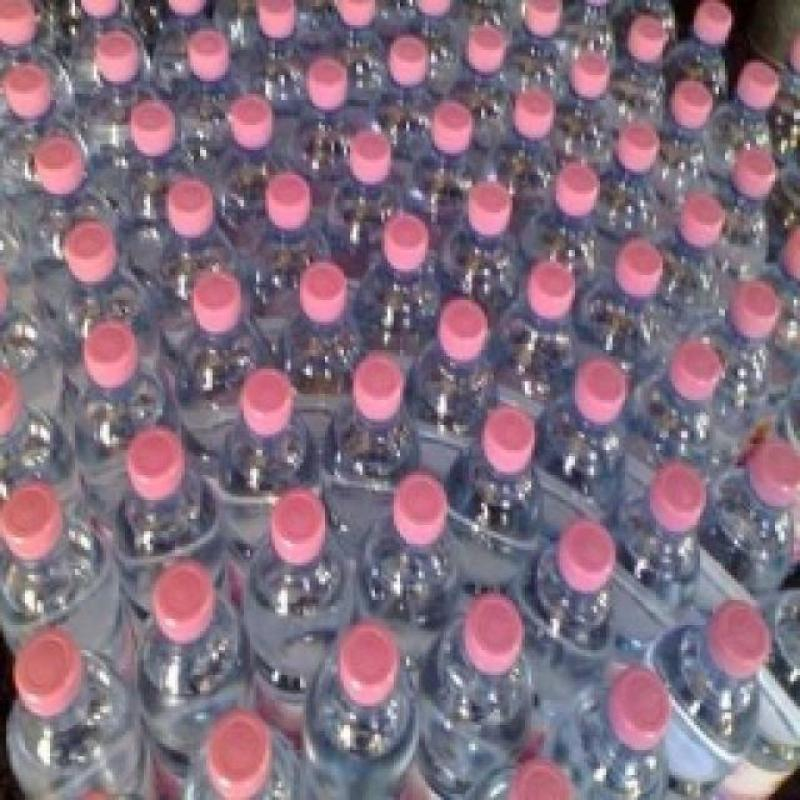botella: (0, 640, 148, 800), (0, 482, 125, 670), (653, 600, 772, 785), (103, 423, 232, 592), (513, 526, 635, 689), (452, 398, 558, 583), (426, 601, 555, 749), (304, 630, 427, 785), (129, 575, 252, 713), (361, 474, 458, 648), (328, 349, 422, 528), (220, 370, 332, 514), (251, 493, 349, 655), (62, 317, 182, 448), (564, 675, 688, 800), (606, 469, 719, 606), (267, 258, 389, 382), (709, 438, 800, 600), (431, 162, 529, 312), (696, 149, 800, 286), (500, 261, 598, 404), (151, 254, 255, 386), (42, 226, 160, 342), (545, 358, 636, 508), (129, 169, 227, 300), (638, 332, 738, 456), (403, 303, 503, 422), (591, 235, 678, 370), (175, 712, 306, 800), (324, 132, 416, 256), (20, 137, 118, 253), (706, 281, 779, 431), (227, 166, 325, 272), (203, 89, 291, 199), (531, 157, 600, 295), (708, 47, 780, 178), (544, 44, 618, 166), (0, 372, 75, 490), (648, 72, 714, 203), (0, 57, 85, 158), (366, 20, 440, 136), (362, 214, 436, 326), (674, 0, 740, 125), (76, 38, 149, 150), (116, 94, 194, 194), (224, 0, 304, 94), (606, 9, 672, 122), (600, 112, 662, 228), (292, 55, 360, 160), (445, 11, 517, 108), (661, 193, 717, 312), (484, 88, 560, 174), (162, 25, 238, 110), (0, 276, 60, 380), (514, 0, 574, 100), (0, 0, 69, 85), (469, 752, 591, 800), (420, 90, 482, 175), (307, 0, 385, 65), (771, 222, 800, 354), (769, 576, 800, 689), (67, 0, 139, 48), (140, 0, 220, 38), (0, 175, 25, 285), (390, 0, 460, 31), (775, 25, 800, 110)
